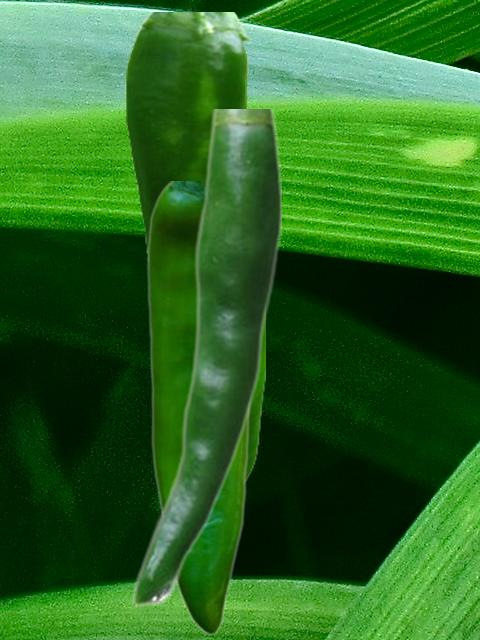green_chili: (130, 109, 280, 606), (125, 12, 264, 484), (146, 181, 253, 633)
